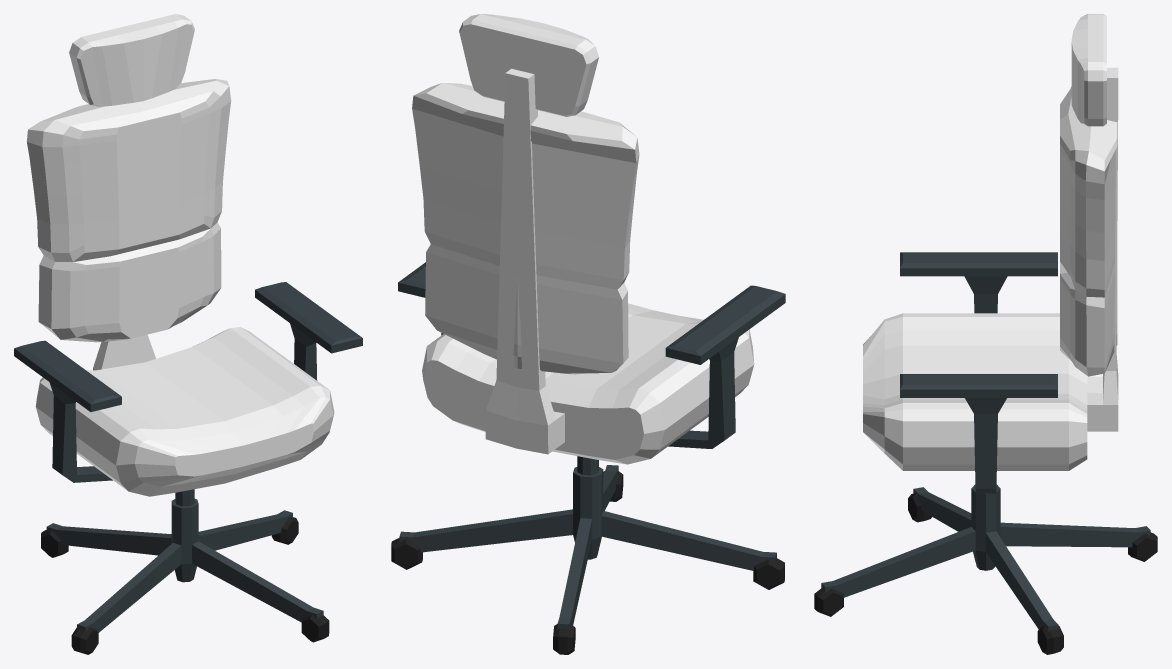
File: ChairV4White.fbx
3 views of the same model, side by side, from view 1: azimuth 30°, elevation 25°; view 2: azimuth 150°, elevation 25°; view 3: azimuth 270°, elevation 25° (orthographic). The views are drawn at different scales.
Visible parts, largest first — view 1: ChairV4White_Top, ChairV4White; view 2: ChairV4White_Top, ChairV4White; view 3: ChairV4White_Top, ChairV4White.
Part boxes in pixels (<box>): ChairV4White_Top: <box>14,14,362,496</box>; ChairV4White: <box>41,489,329,654</box>; ChairV4White_Top: <box>398,14,785,464</box>; ChairV4White: <box>391,456,784,654</box>; ChairV4White_Top: <box>863,14,1118,493</box>; ChairV4White: <box>814,484,1157,654</box>.
Size of the model in its own units: 82.82 by 146 by 82.82.
